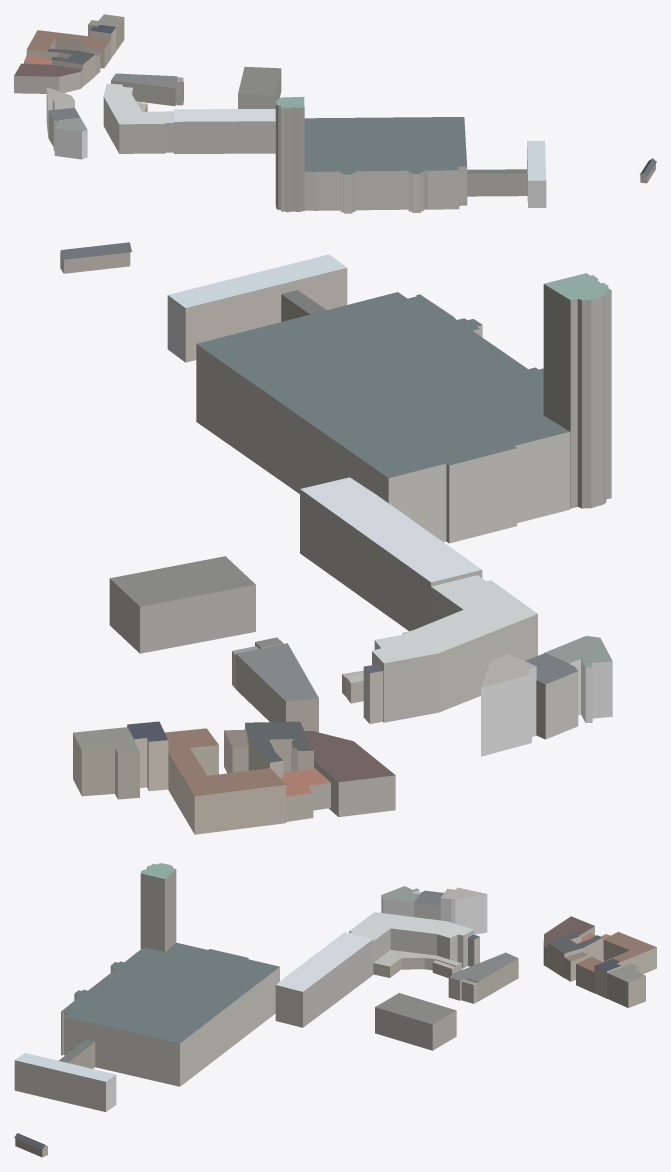
3 renders of one model, top to bottom at view 1: azimuth 30°, elevation 25°; view 2: azimuth 150°, elevation 25°; view 3: azimuth 270°, elevation 25°, orthographic. The views are drawn at different scales.
Visible parts, largest first — view 1: tuile; view 2: tuile; view 3: tuile.
Part boxes in pixels (x1=…): tuile: x1=14, y1=14, x2=656, y2=213; tuile: x1=60, y1=242, x2=612, y2=834; tuile: x1=14, y1=863, x2=656, y2=1157.
Size of the model in its own units: 229 by 53.03 by 260.
